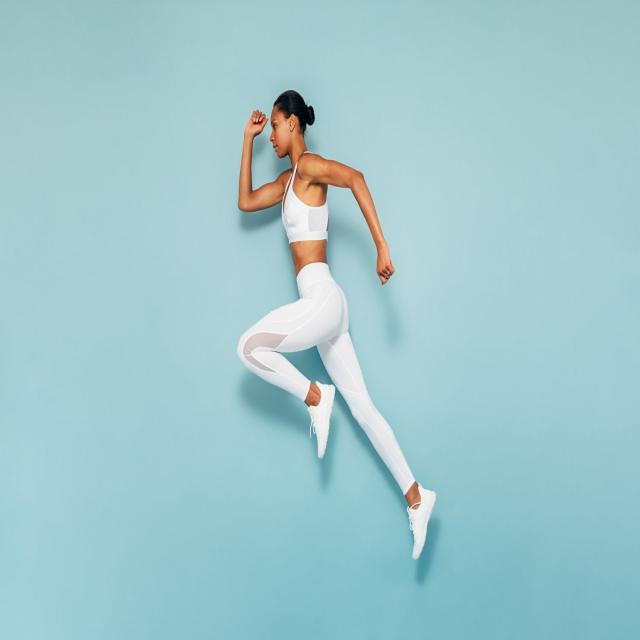Person: (238, 90, 437, 560)
